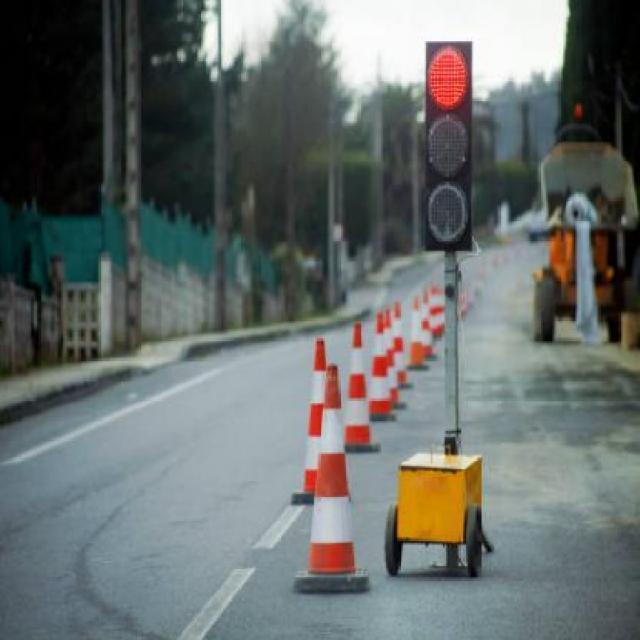red_light: (416, 32, 478, 248)
